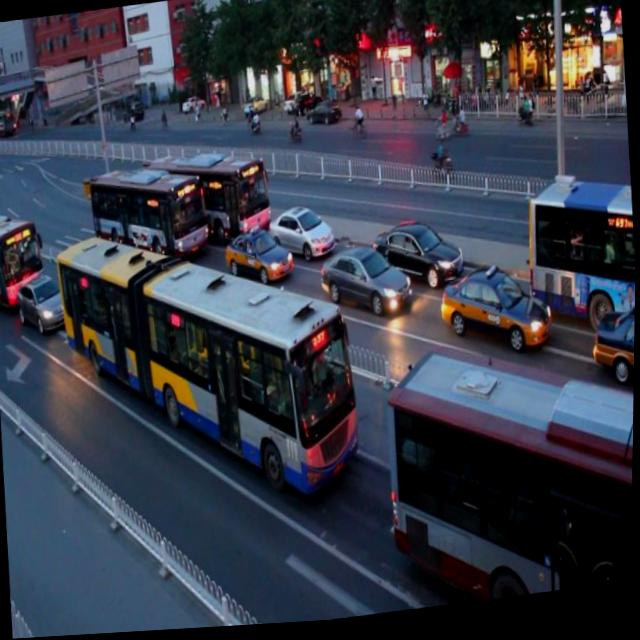car: (437, 260, 554, 371), (314, 238, 409, 329), (372, 215, 464, 298), (220, 219, 293, 294), (264, 197, 334, 271), (589, 300, 636, 396), (15, 268, 75, 338)
van: (49, 200, 366, 526), (383, 329, 636, 616), (525, 176, 638, 335), (85, 151, 210, 279), (145, 137, 273, 257), (0, 195, 44, 300)
